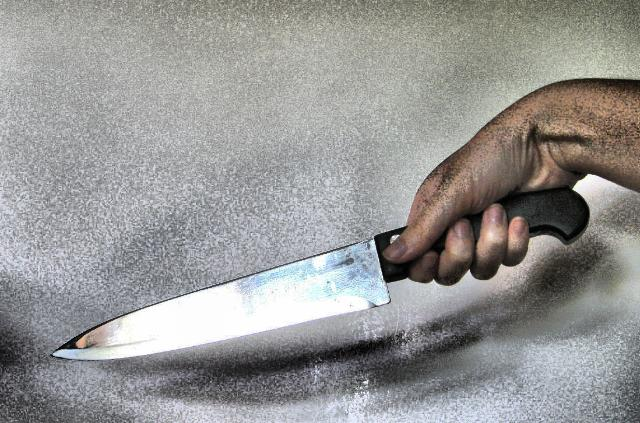knife: (38, 176, 600, 366)
